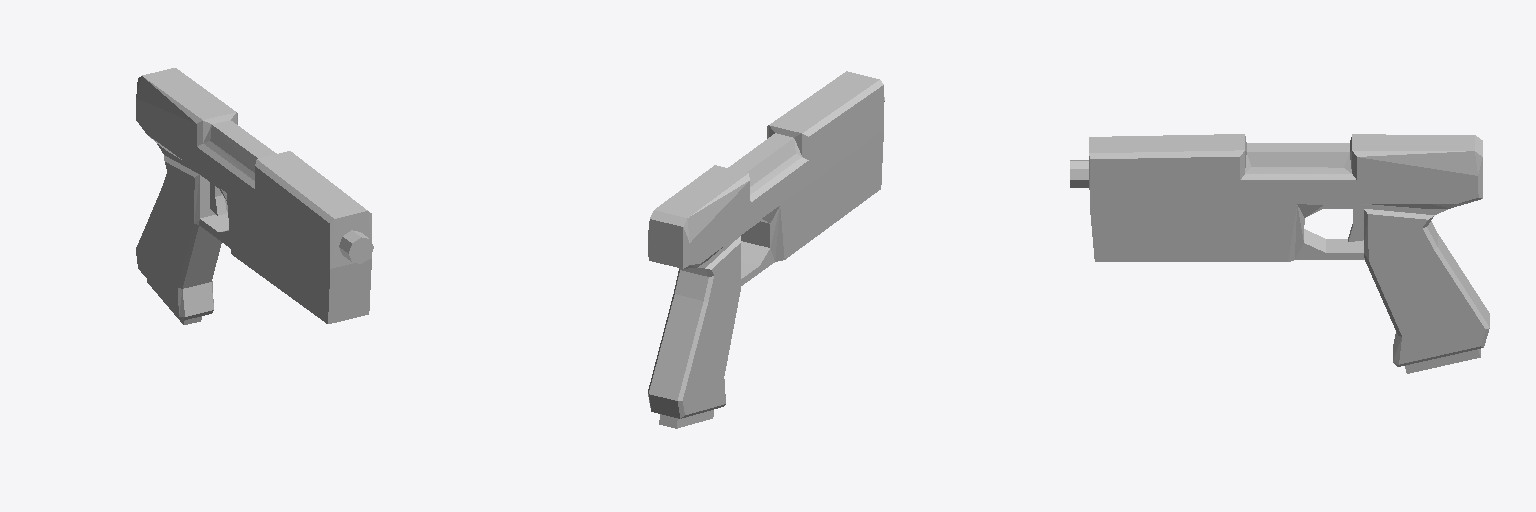
File: Pistol.obj
The picture shows the model from 3 angles: view 1: azimuth 30°, elevation 25°; view 2: azimuth 150°, elevation 25°; view 3: azimuth 270°, elevation 25°; orthographic projection.
Visible parts, largest first — view 1: main_main.004; view 2: main_main.004; view 3: main_main.004.
Boxes of the visible parts, x1=… form: main_main.004: x1=136, y1=68, x2=373, y2=324; main_main.004: x1=648, y1=71, x2=884, y2=428; main_main.004: x1=1070, y1=134, x2=1489, y2=373.
Bounding box in the file's own units: 0.1072 × 0.5598 × 0.9354.